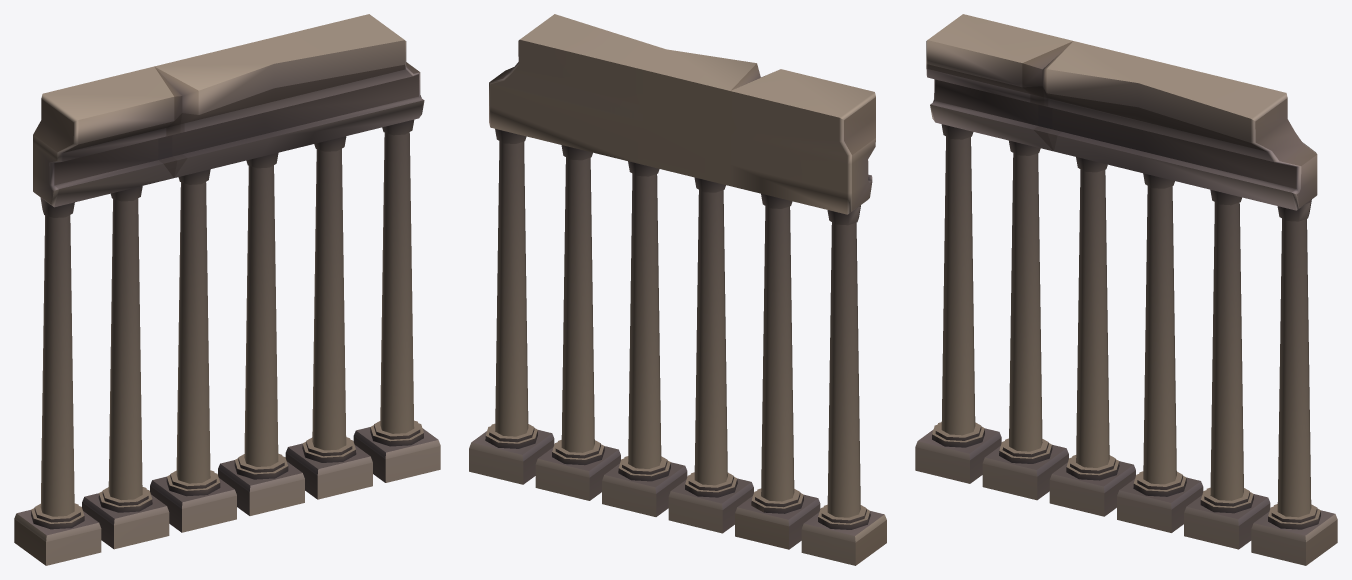
Rendered from Ruins_AncientRuins_alt10.glb.
3 renders of one model, left to right at view 1: azimuth 30°, elevation 25°; view 2: azimuth 150°, elevation 25°; view 3: azimuth 330°, elevation 25°, orthographic. The views are drawn at different scales.
Parts seen in each view (by area): view 1: base155; view 2: base155; view 3: base155.
Part boxes in pixels (x1,y1,x2,y2): base155: (14,14,440,565); base155: (469,14,886,565); base155: (915,14,1337,565).
Size of the model in its own units: 10.19 by 11.05 by 1.88.
